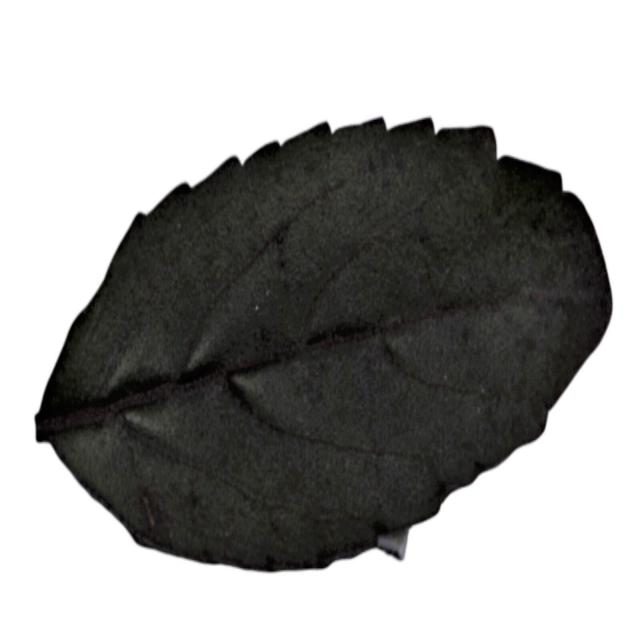tulsi: (27, 109, 615, 576)
